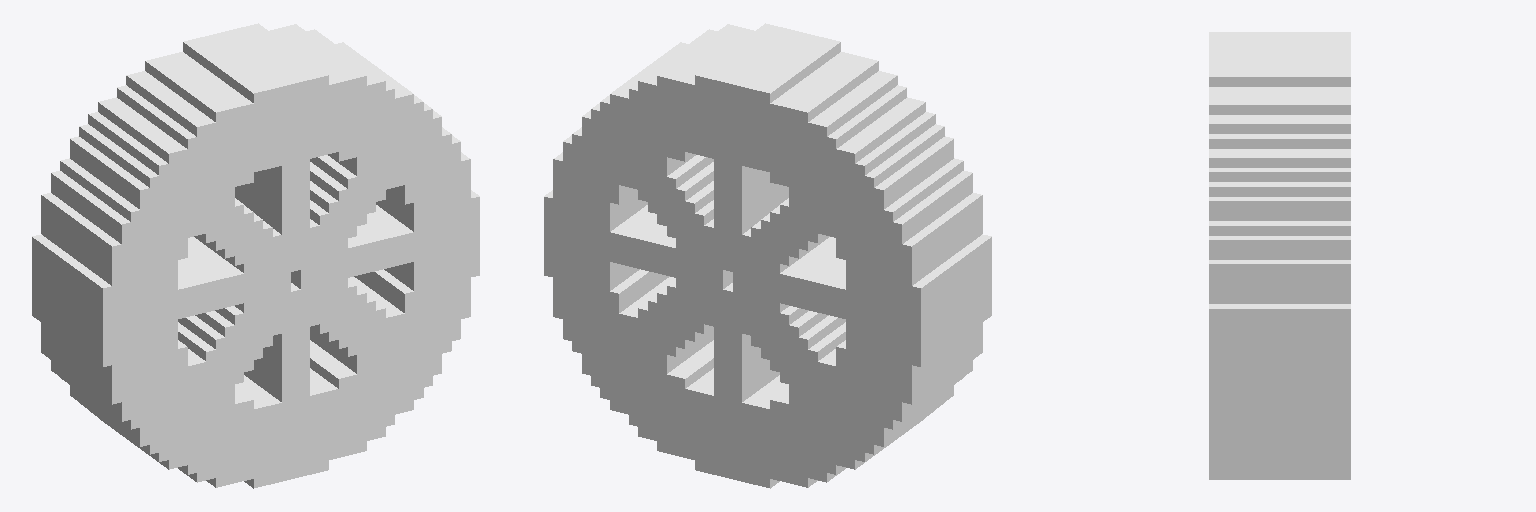
File: wheel.obj
3 views of the same model, side by side, from view 1: azimuth 30°, elevation 25°; view 2: azimuth 150°, elevation 25°; view 3: azimuth 270°, elevation 25° (orthographic).
Parts seen in each view (by area): view 1: wheel.001; view 2: wheel.001; view 3: wheel.001.
Boxes of the visible parts, x1=… form: wheel.001: x1=32, y1=23, x2=479, y2=488; wheel.001: x1=544, y1=23, x2=991, y2=488; wheel.001: x1=1209, y1=32, x2=1350, y2=479.
Size of the model in its own units: 4 by 4 by 1.3.